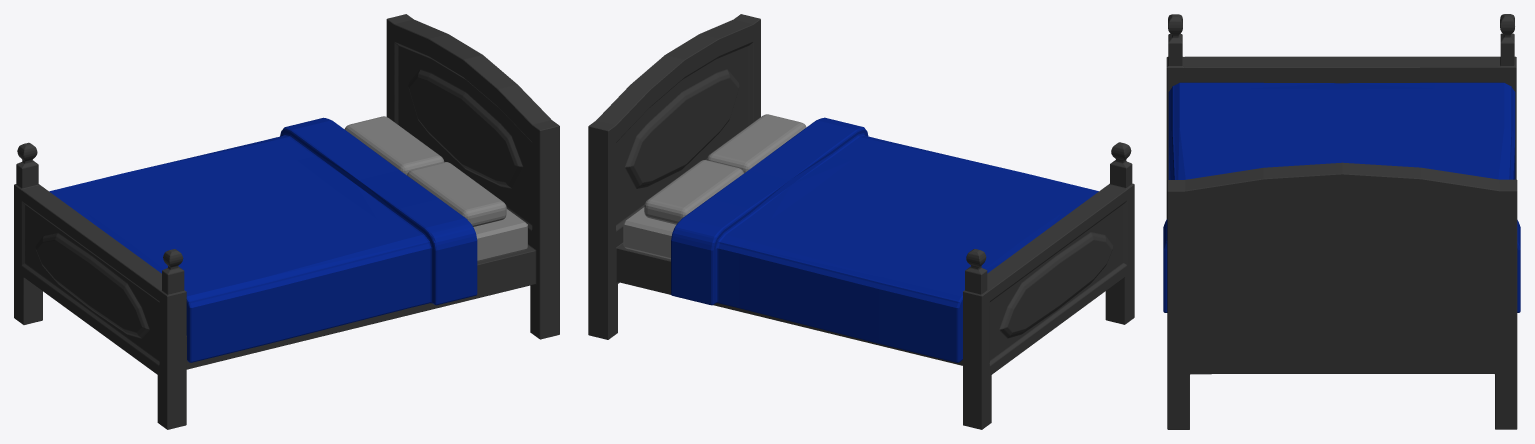
File: Bed_UnrealReady_01.fbx
3 renders of one model, left to right at view 1: azimuth 30°, elevation 25°; view 2: azimuth 150°, elevation 25°; view 3: azimuth 270°, elevation 25°, orthographic. The views are drawn at different scales.
Visible parts, largest first — view 1: MasterBedroom_Bed_Bedding, MasterBedroom_Bed_Final, MasterBedroom_Bed_Pillow0, MasterBedroom_Bed_Pillow1, MasterBedroom_Bed_Matress; view 2: MasterBedroom_Bed_Bedding, MasterBedroom_Bed_Final, MasterBedroom_Bed_Pillow1, MasterBedroom_Bed_Pillow0, MasterBedroom_Bed_Matress; view 3: MasterBedroom_Bed_Final, MasterBedroom_Bed_Bedding.
Boxes of the visible parts, x1,y1,x2,y2 form: MasterBedroom_Bed_Bedding: (49,117,477,362); MasterBedroom_Bed_Final: (14,14,559,429); MasterBedroom_Bed_Pillow0: (407,162,506,226); MasterBedroom_Bed_Pillow1: (344,116,444,175); MasterBedroom_Bed_Matress: (473,209,527,261); MasterBedroom_Bed_Bedding: (671,117,1098,362); MasterBedroom_Bed_Final: (588,14,1134,429); MasterBedroom_Bed_Pillow1: (644,160,743,224); MasterBedroom_Bed_Pillow0: (707,114,806,173); MasterBedroom_Bed_Matress: (623,207,675,259); MasterBedroom_Bed_Final: (1166,14,1517,429); MasterBedroom_Bed_Bedding: (1163,82,1520,312).
Size of what is drawn, in the model's own units: 275 by 188 by 149.
